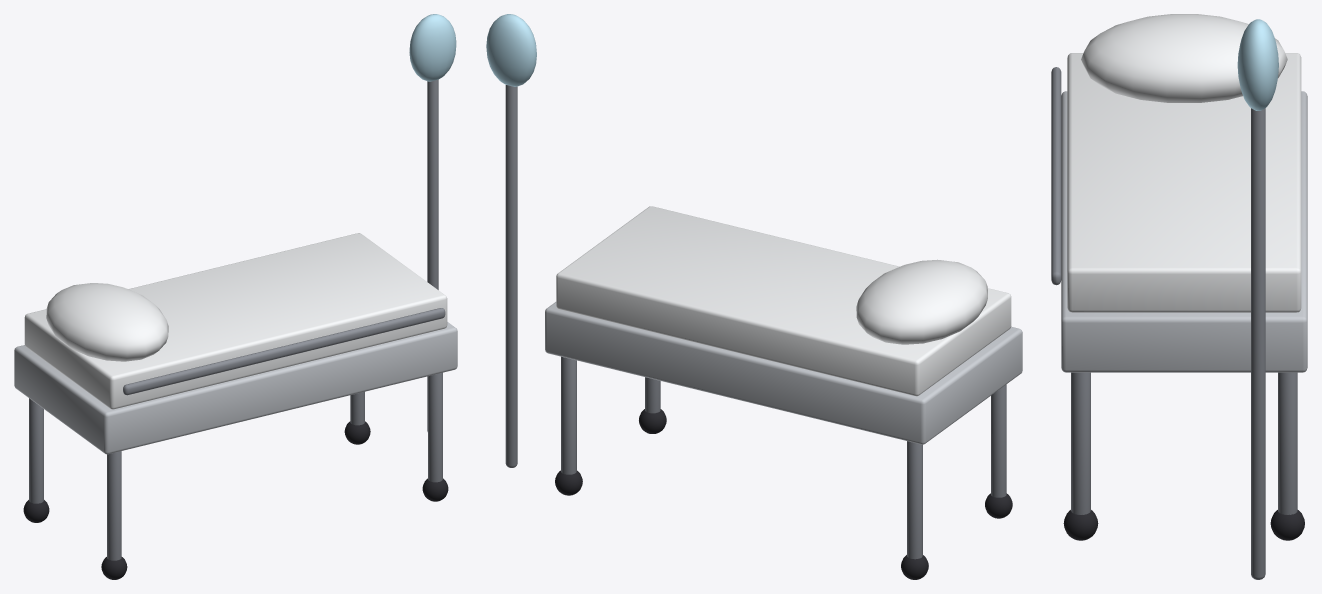
The model's file is maca.glb.
3 views of the same model, side by side, from view 1: azimuth 30°, elevation 25°; view 2: azimuth 150°, elevation 25°; view 3: azimuth 270°, elevation 25° (orthographic). The views are drawn at different scales.
Parts seen in each view (by area): view 1: maca; view 2: maca; view 3: maca.
Part boxes in pixels (x1,y1,x2,y2): maca: (14, 14, 457, 579); maca: (486, 14, 1022, 579); maca: (1051, 14, 1307, 579).
Size of the model in its own units: 2.64 by 2.51 by 1.04.
